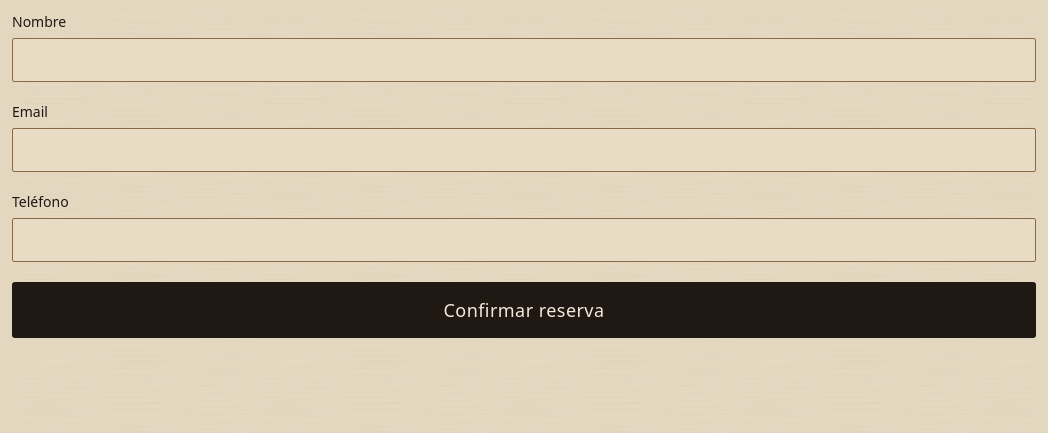
FormularioDatosContacto - validación en línea › no envía con datos inválidos y señala cada campo que falta
Click the button "Confirmar reserva" at (524, 310), box 12,282 -> 1036,338
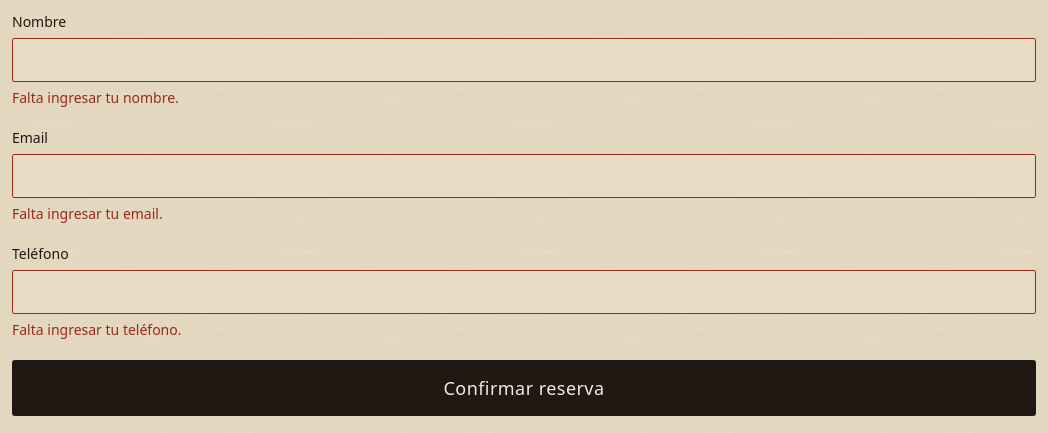
Check: the text "Falta ingresar tu nombre." is shown, box 12,88 -> 179,107
Check: the text "Falta ingresar tu email." is shown, box 12,204 -> 163,223
Check: the text "Falta ingresar tu teléfono." is shown, box 12,320 -> 182,339
